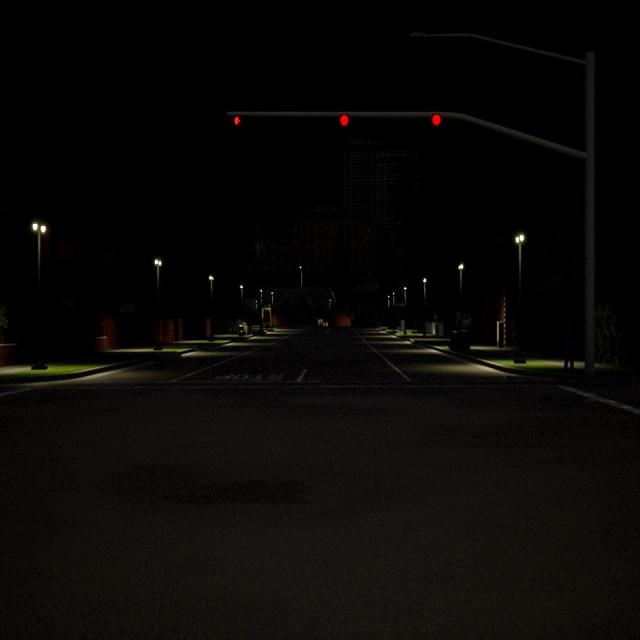Pedestrian: (564, 327, 574, 372)
traffic_light: (340, 115, 349, 126), (432, 114, 440, 125), (233, 116, 240, 126)
